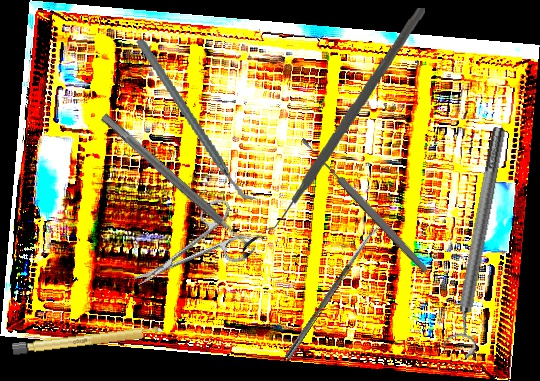Chopper: (252, 2, 425, 235), (136, 24, 258, 218)
Fixation Ring: (93, 103, 266, 261), (439, 124, 519, 360)
Iris Scissors: (119, 193, 258, 310)
Scalpel Handle: (11, 324, 166, 356)
Surgical Spoon: (299, 135, 430, 275), (284, 224, 380, 361)
